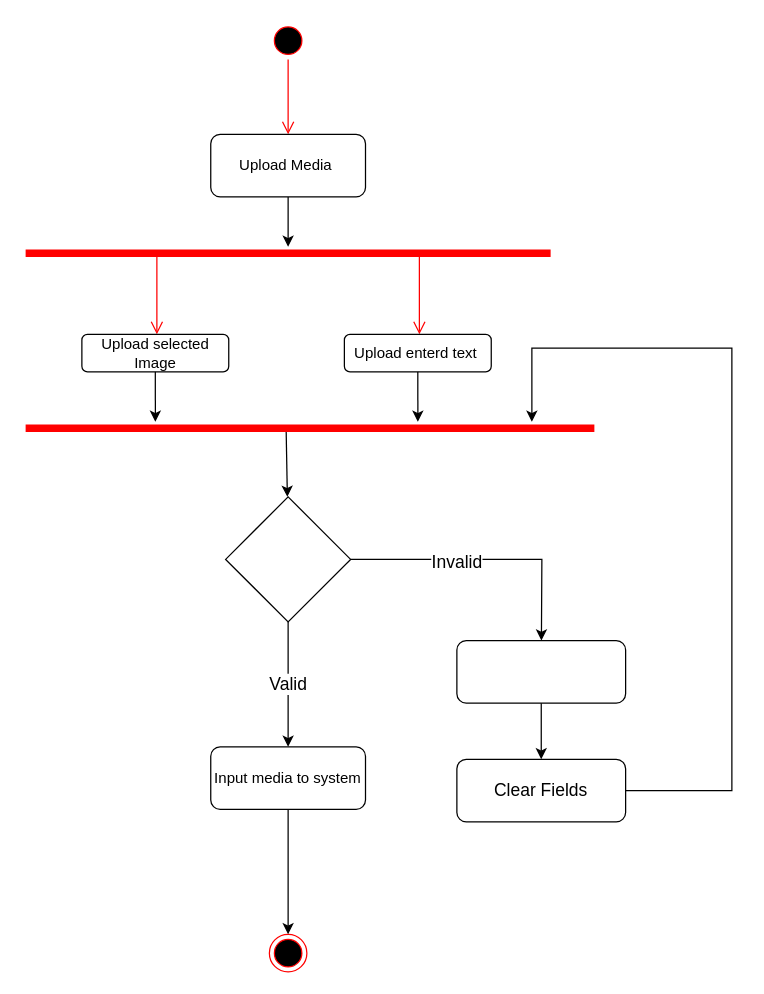
The diagram is 764 pixels wide and 994 high, and some of its shapes have lost their labels. The shapes that lost their labels are listed below. From the top down, each one's box as (x1, y1, x2, y2) in pixels, then its label:
(224, 496, 351, 622): Validate Media
(456, 639, 626, 703): Error Message
